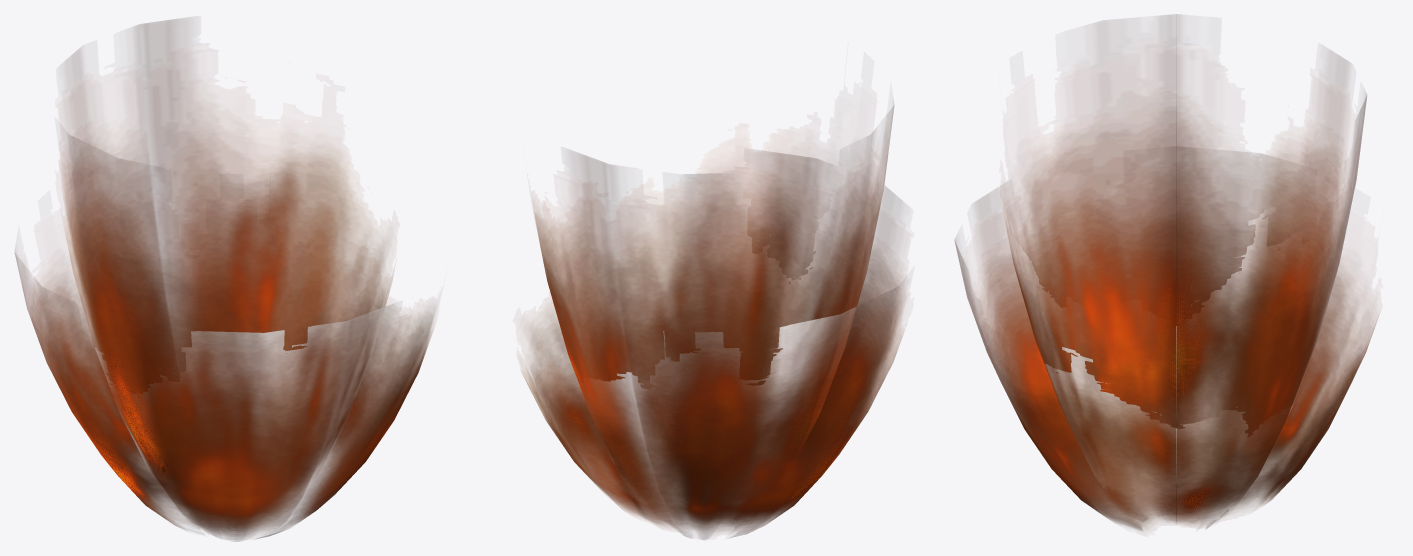
File: meteor.glb
3 renders of one model, left to right at view 1: azimuth 30°, elevation 25°; view 2: azimuth 150°, elevation 25°; view 3: azimuth 270°, elevation 25°, orthographic.
Parts seen in each view (by area): view 1: meteor_mesh; view 2: meteor_mesh; view 3: meteor_mesh.
Part boxes in pixels (bbox=[...]): meteor_mesh: bbox=[15, 18, 435, 541]; meteor_mesh: bbox=[521, 105, 906, 539]; meteor_mesh: bbox=[955, 14, 1378, 531].
Size of the model in its own units: 1.4 by 1.5 by 1.4.
Materials: 1 (1 with a texture image).
